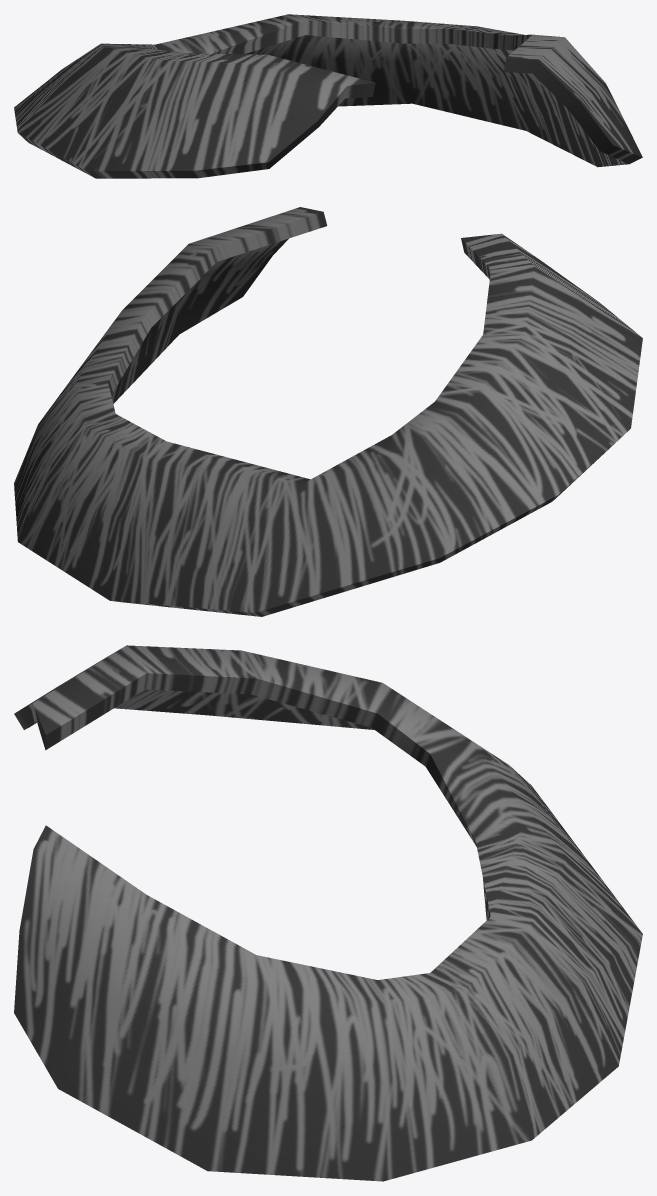
File: Hair_Balding.FBX
The picture shows the model from 3 angles, top to bottom: view 1: azimuth 30°, elevation 25°; view 2: azimuth 150°, elevation 25°; view 3: azimuth 270°, elevation 25°; orthographic projection. The views are drawn at different scales.
Visible parts, largest first — view 1: Hair_Balding; view 2: Hair_Balding; view 3: Hair_Balding.
Part boxes in pixels (bbox=[...]): Hair_Balding: bbox=[14, 14, 642, 178]; Hair_Balding: bbox=[14, 207, 642, 616]; Hair_Balding: bbox=[14, 645, 642, 1181].
Bounding box in the file's own units: 242 × 103 × 198.
